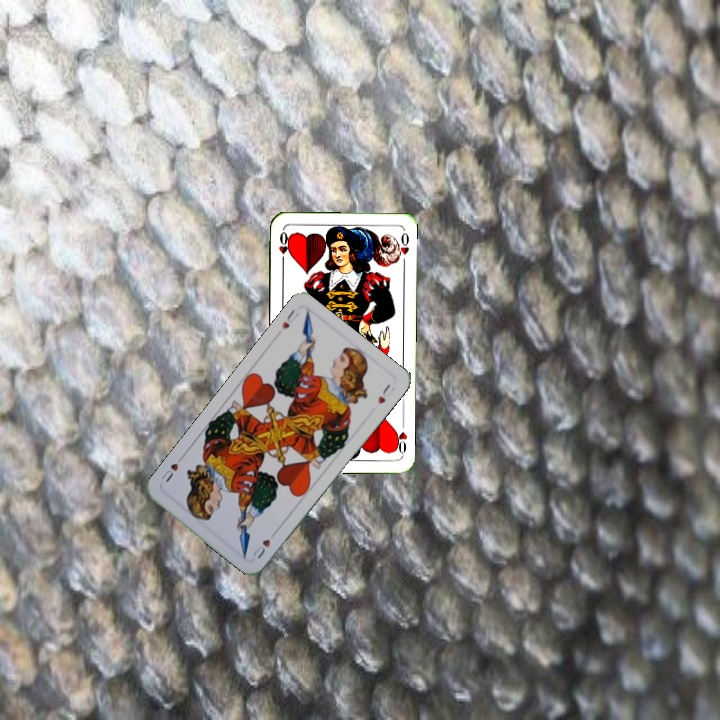HO: (391, 417, 410, 457), (275, 228, 291, 267)
HU: (248, 527, 280, 561), (278, 306, 302, 332)
